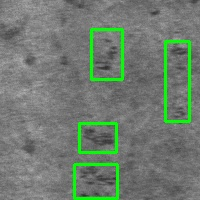rolled-in_scale: (165, 41, 189, 121), (91, 29, 122, 79), (74, 164, 117, 198), (79, 123, 116, 152)
